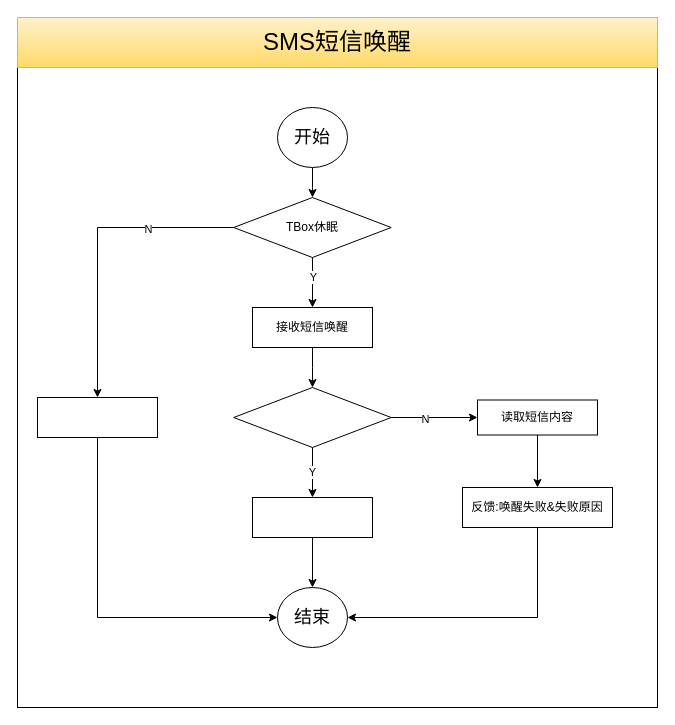
This 675x725 diagram has some shape labels left out. The shapes that lost their labels are listed below. From the top down, each one's box as (x1, y1, x2, y2) in pixels, then its label:
(36, 396, 158, 438): 反馈:不满足唤醒需求
(233, 386, 391, 448): 短信唤醒成功
(252, 496, 372, 538): 发起登入
